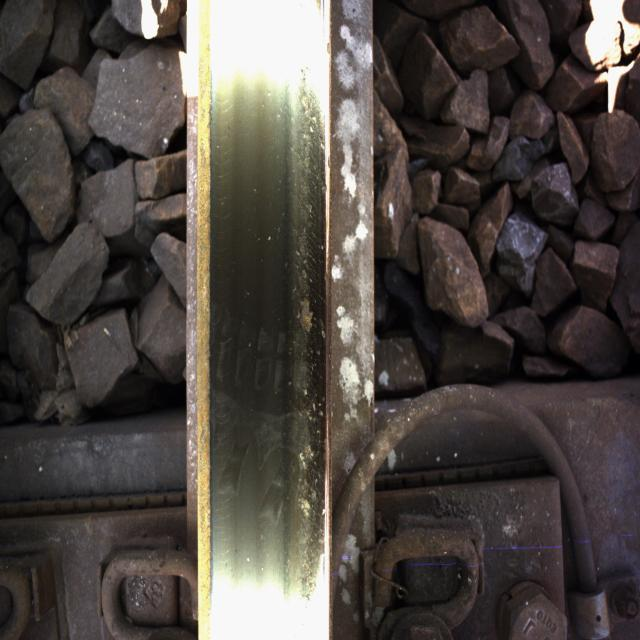scar: (268, 48, 326, 598)
